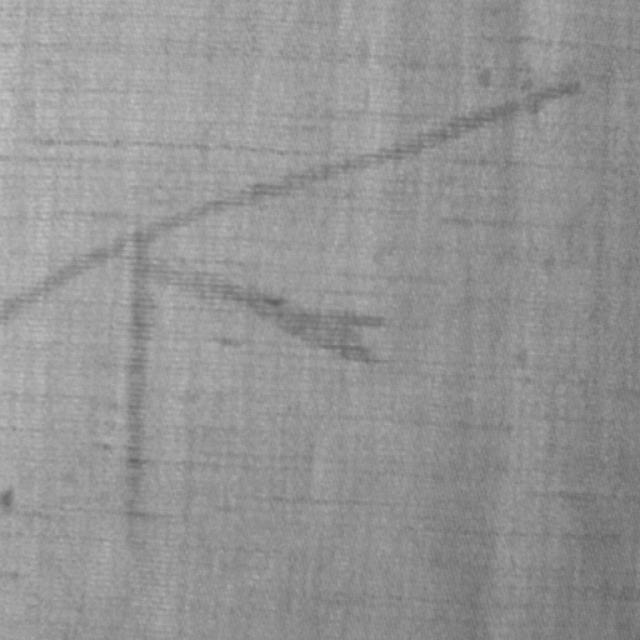oil spot: (0, 72, 590, 334), (142, 248, 390, 374), (126, 232, 152, 534)
